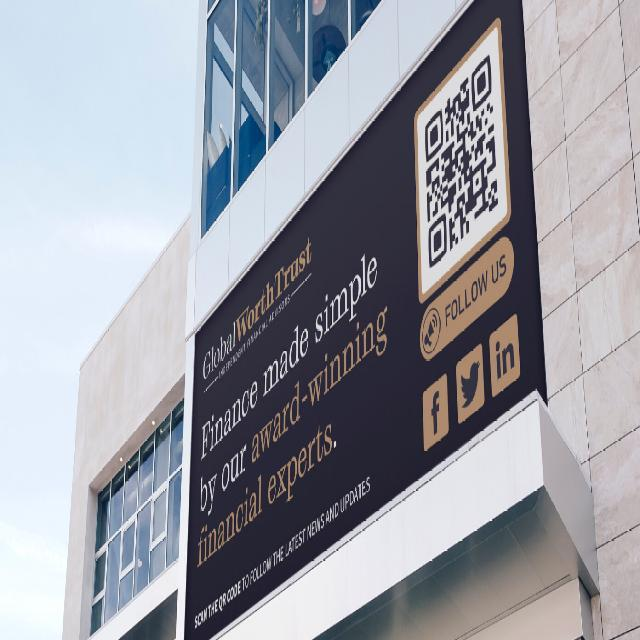qr_code: (424, 55, 499, 269)
